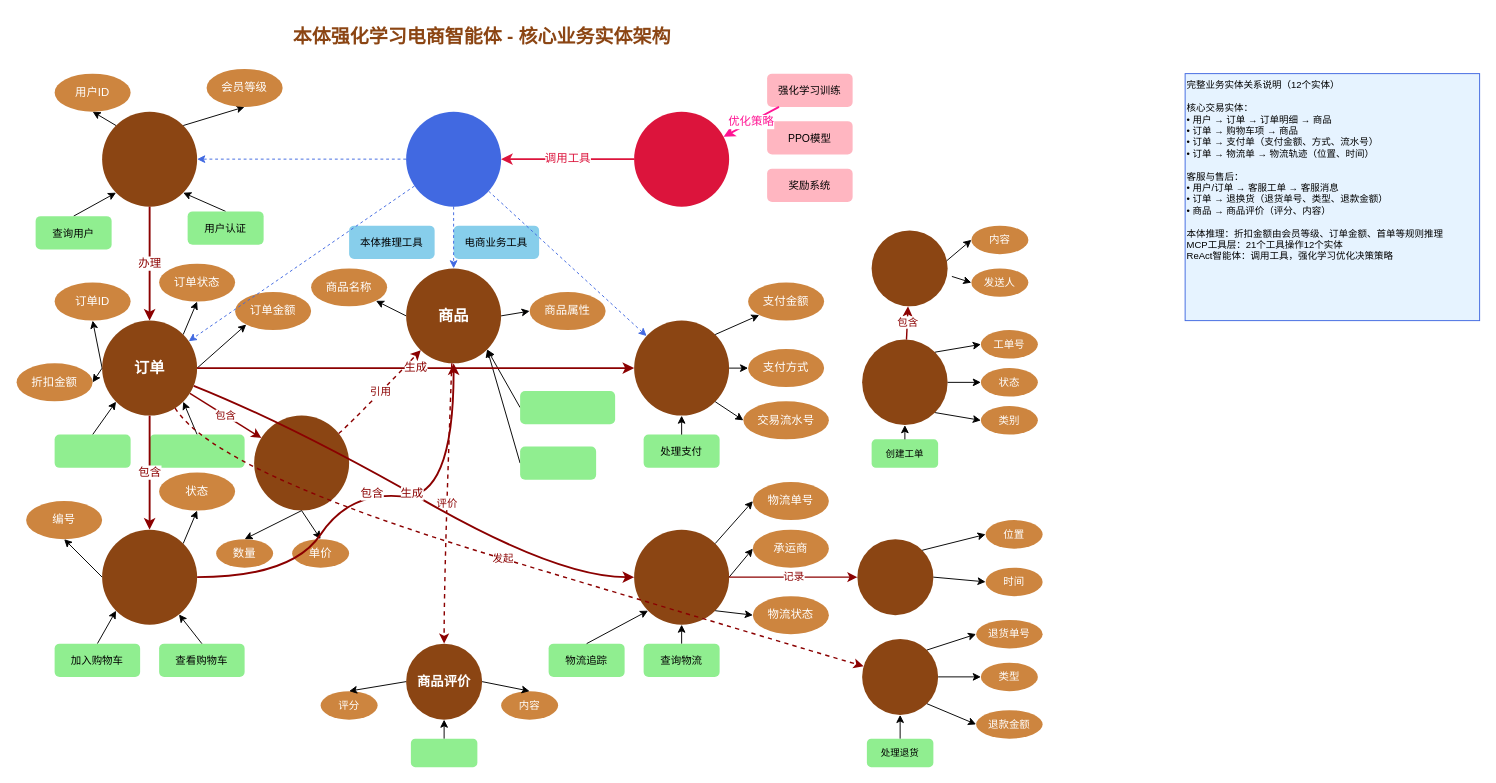
This 1496x783 diagram has some shape labels left out. Here are the shapes that lost their labels. From the top down, the box of each, then its label:
(102, 111, 197, 206): 用户
(406, 111, 501, 206): MCP工具层
(634, 111, 729, 206): ReAct智能体
(871, 230, 947, 306): 客服消息
(634, 320, 729, 415): 支付单
(862, 339, 947, 425): 客服工单
(520, 390, 615, 424): 商品推荐查询
(54, 434, 130, 467): 创建订单
(149, 434, 244, 467): 订单信息采集
(254, 415, 349, 510): 订单明细
(520, 446, 596, 479): 商品查询
(102, 529, 197, 624): 购物车
(634, 529, 729, 624): 物流单
(857, 539, 933, 615): 物流轨迹
(862, 638, 938, 714): 退换货
(410, 738, 477, 767): 获取评价
